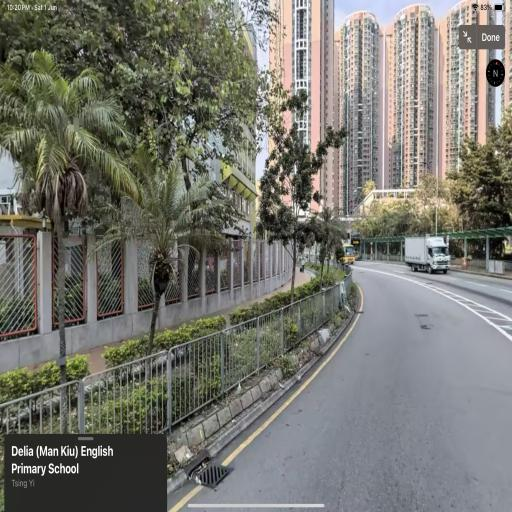Roads: (180, 266, 509, 496)
Trees: (2, 8, 346, 327)
